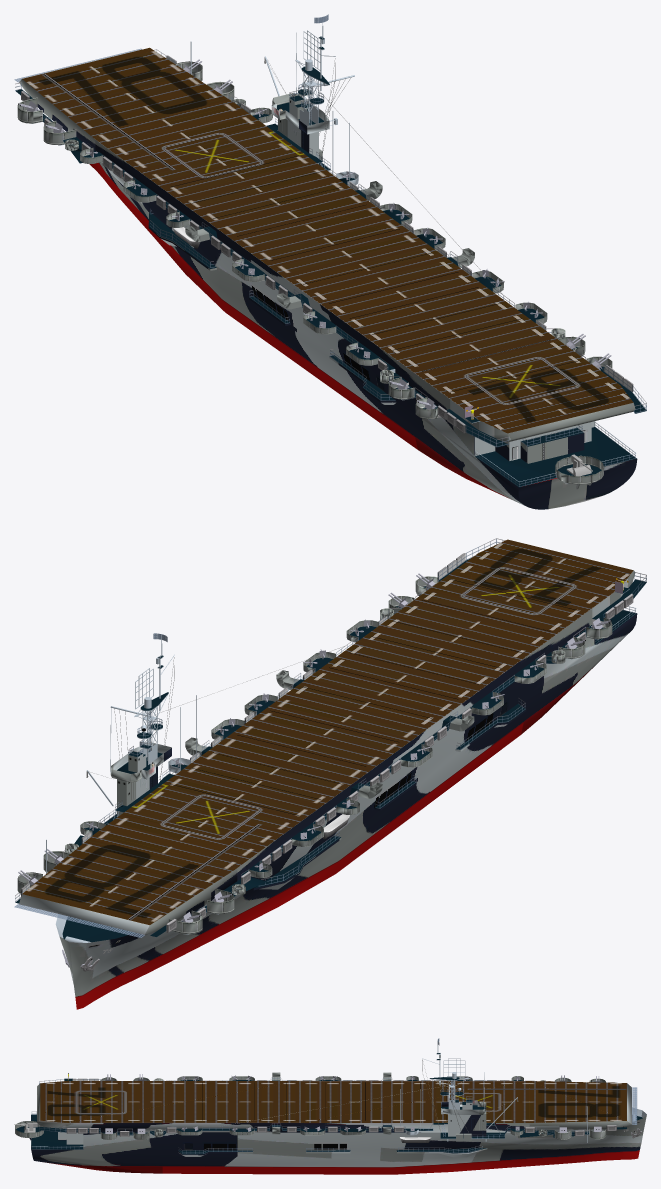
The model's file is CVE_noflag2.glb.
3 views of the same model, one above another, from view 1: azimuth 30°, elevation 25°; view 2: azimuth 150°, elevation 25°; view 3: azimuth 270°, elevation 25° (orthographic). The views are drawn at different scales.
Parts seen in each view (by area): view 1: deck, CVE; view 2: deck, CVE; view 3: CVE, deck.
Boxes of the visible parts, x1,y1,x2,y2 form: deck: [19, 47, 635, 442]; CVE: [14, 14, 646, 509]; deck: [19, 539, 635, 934]; CVE: [14, 538, 646, 1009]; CVE: [14, 1038, 646, 1174]; deck: [37, 1081, 631, 1132].
Size of the model in its own units: 120 by 123 by 497.
Materials: 26 (10 with a texture image).
